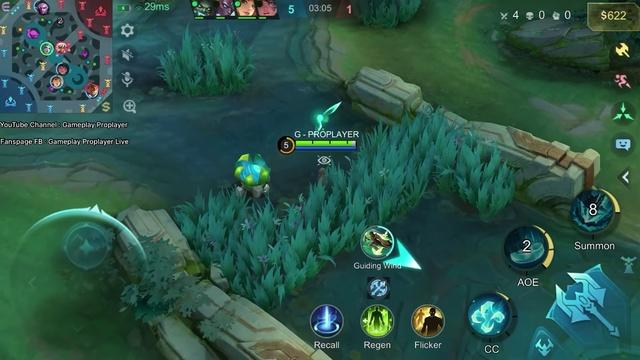Adc_Aliado: (84, 91, 99, 100)
Arbusto: (175, 109, 513, 309), (158, 26, 254, 96), (353, 0, 421, 27)
Exp_Aliado: (35, 0, 42, 12)
Exp_Enemigo: (37, 1, 51, 16)
HP_Heroe_Principal: (295, 141, 357, 146)
Hechizo_Batalla: (411, 304, 444, 337)
Jungla_Aliado: (48, 76, 64, 89)
Lechuga: (234, 154, 269, 198)
Mana: (295, 147, 356, 150)
Mid_Aliado: (38, 42, 55, 56)
Mid_Enemigo: (54, 41, 69, 56)
Minimapa: (0, 1, 113, 114)
Roamer_Aliado: (56, 62, 70, 76)
Roamer_Enemigo: (85, 81, 98, 94)
Skill1: (467, 293, 510, 337)
Tortuga_mapa: (25, 29, 39, 38)
Vexana: (307, 165, 339, 221)
